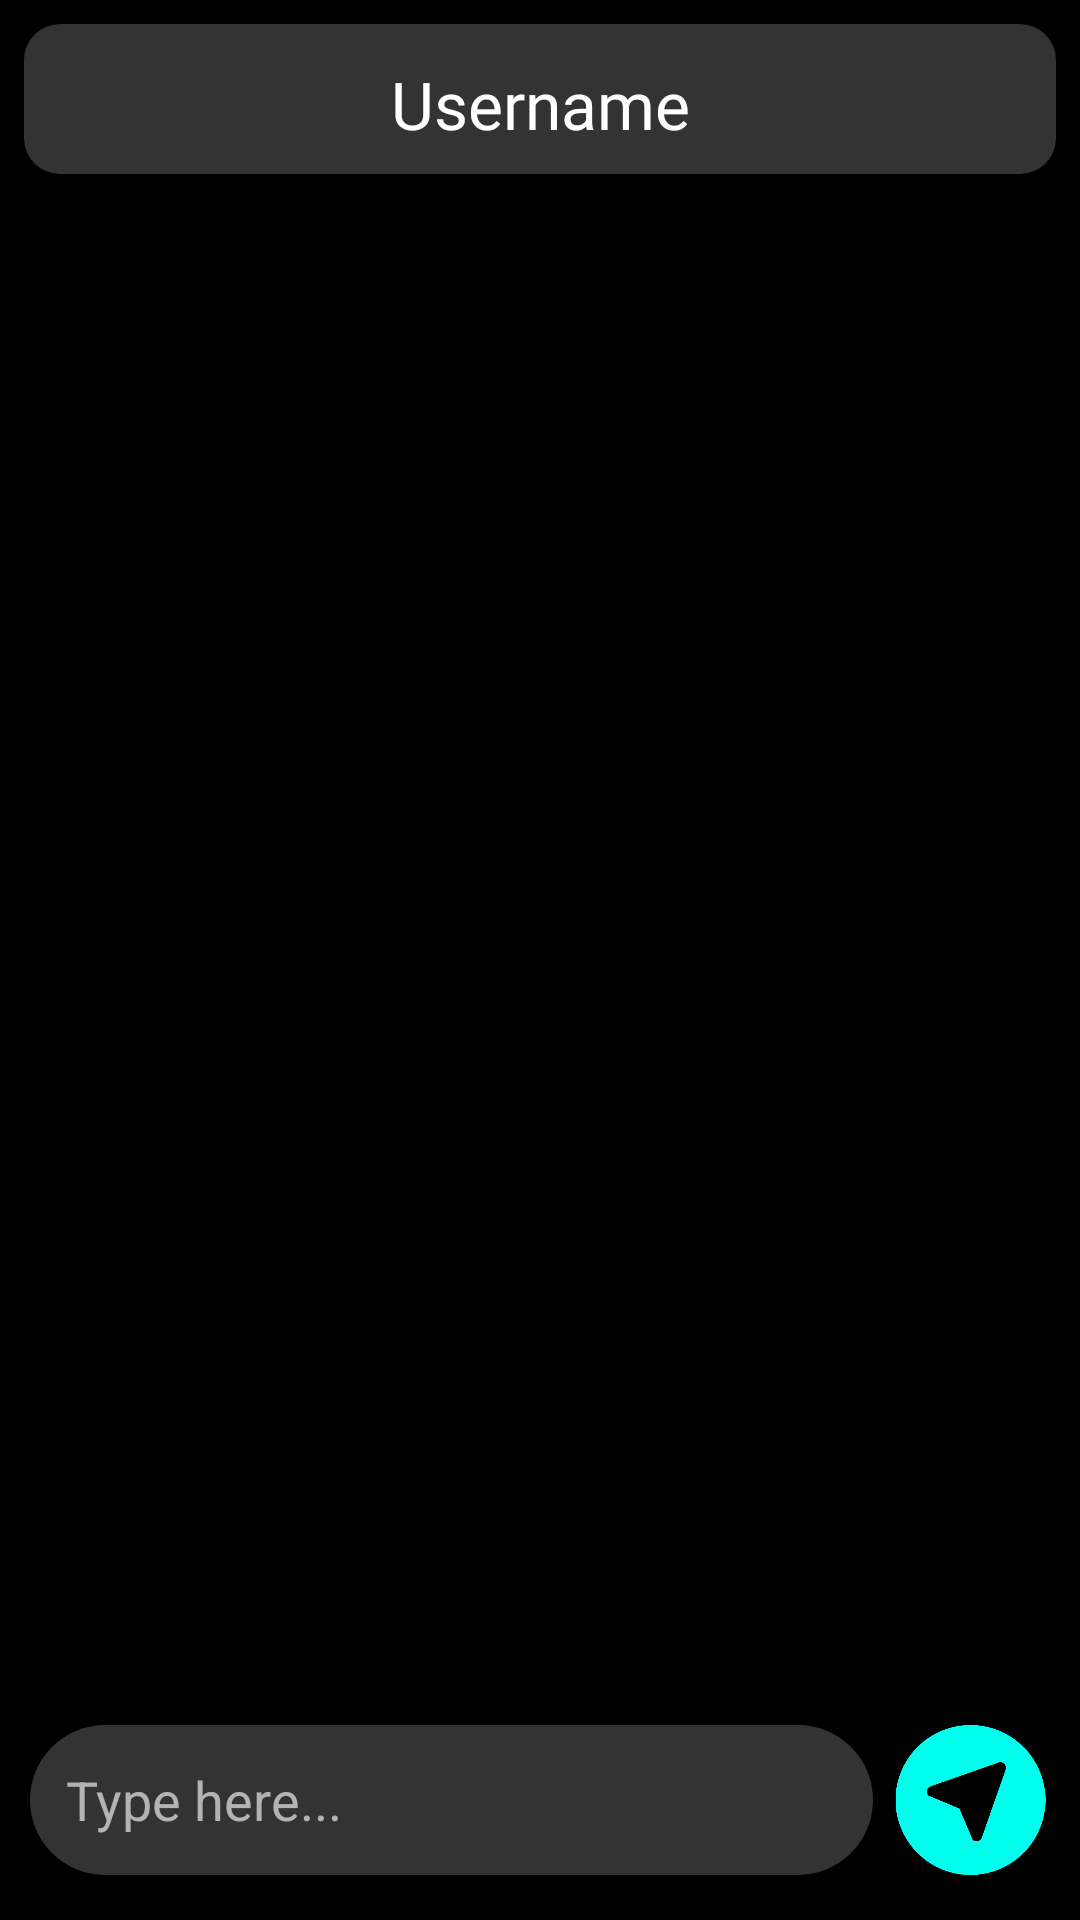

Icon bounding boxes for this 1080x1920 phone screenshot, format box=[x1, y1, x2, y2]:
send: box=[896, 1725, 1046, 1875]
